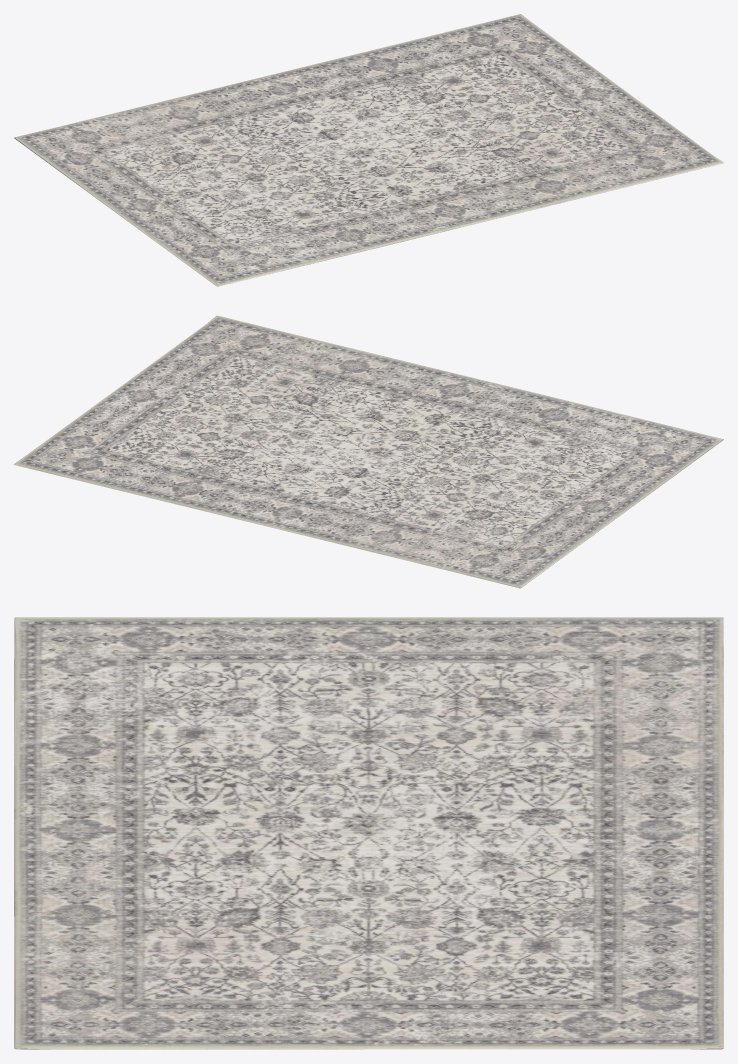
The model's file is lokaltag_dywan_z_krotkim_wosiem_10623220.glb.
The picture shows the model from 3 angles, top to bottom: view 1: azimuth 30°, elevation 25°; view 2: azimuth 150°, elevation 25°; view 3: azimuth 270°, elevation 25°; orthographic projection. The views are drawn at different scales.
Parts seen in each view (by area): view 1: lokaltag_dywan_z_krotkim_wosiem_10623220; view 2: lokaltag_dywan_z_krotkim_wosiem_10623220; view 3: lokaltag_dywan_z_krotkim_wosiem_10623220.
Part boxes in pixels (x1,y1,x2,y2): lokaltag_dywan_z_krotkim_wosiem_10623220: (14, 14, 723, 286); lokaltag_dywan_z_krotkim_wosiem_10623220: (14, 315, 723, 588); lokaltag_dywan_z_krotkim_wosiem_10623220: (14, 617, 723, 1049).
Size of the model in its own units: 2.3 by 0.00653 by 1.6.
1 material, 1 textured.
